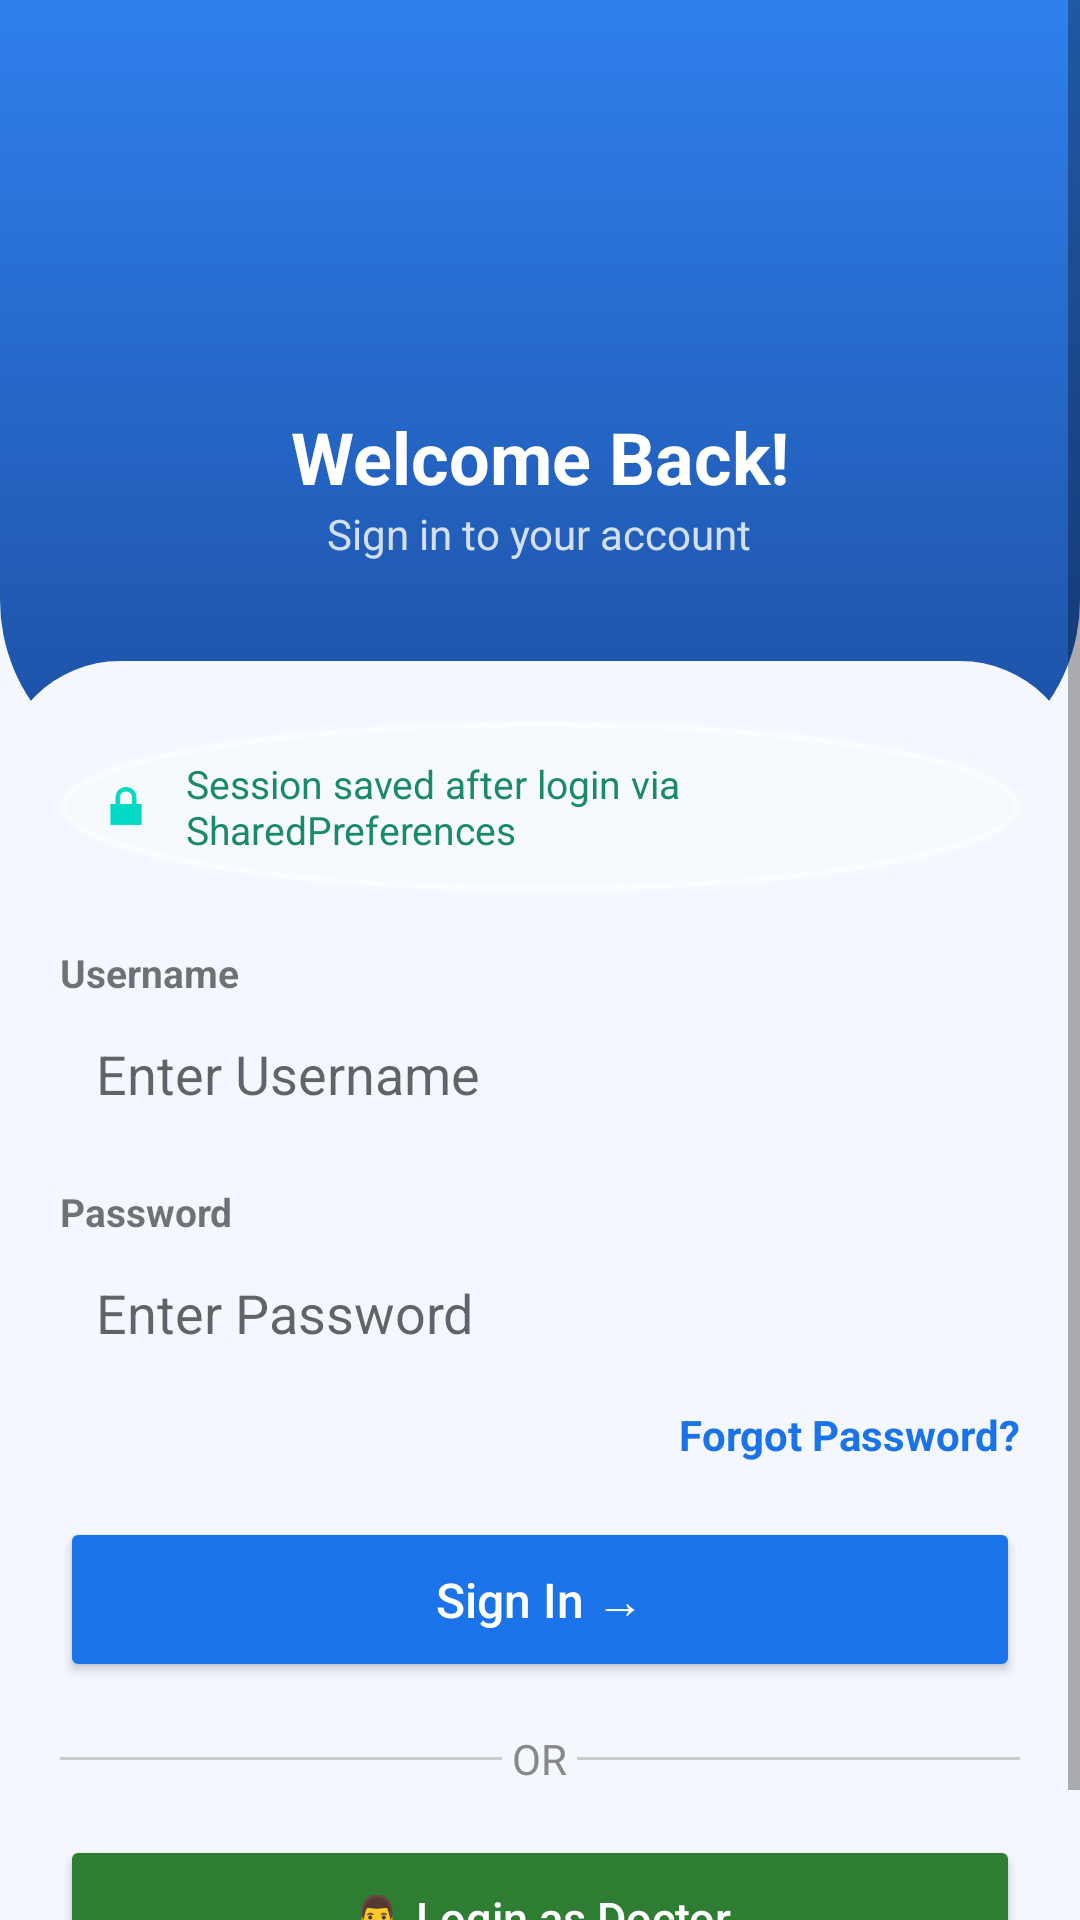

Named icons in this screenshot (1080×1920) and their bounding boxes, bbox=(x1, y1, x2, y2):
lock: bbox=(110, 787, 142, 825)
